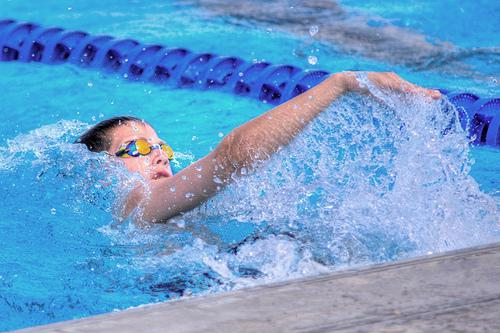human: (70, 63, 440, 278)
